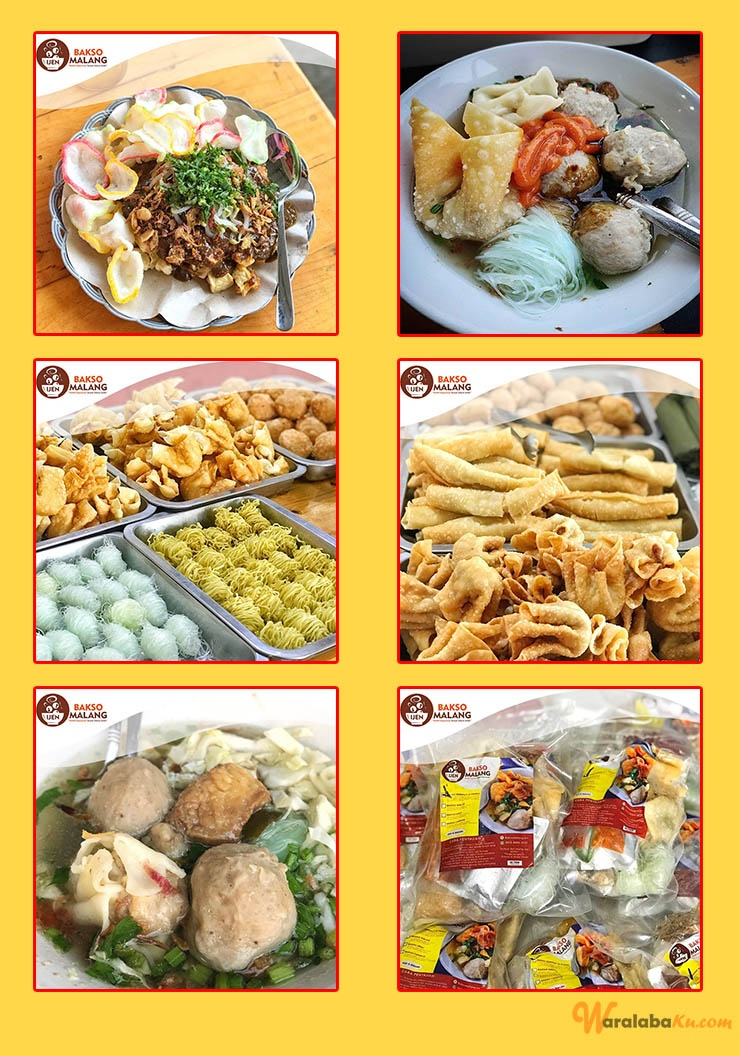bakso_malang: (40, 728, 328, 972), (408, 68, 685, 305)
